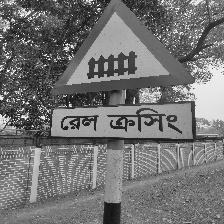Rail-crossing: (48, 1, 197, 139)
